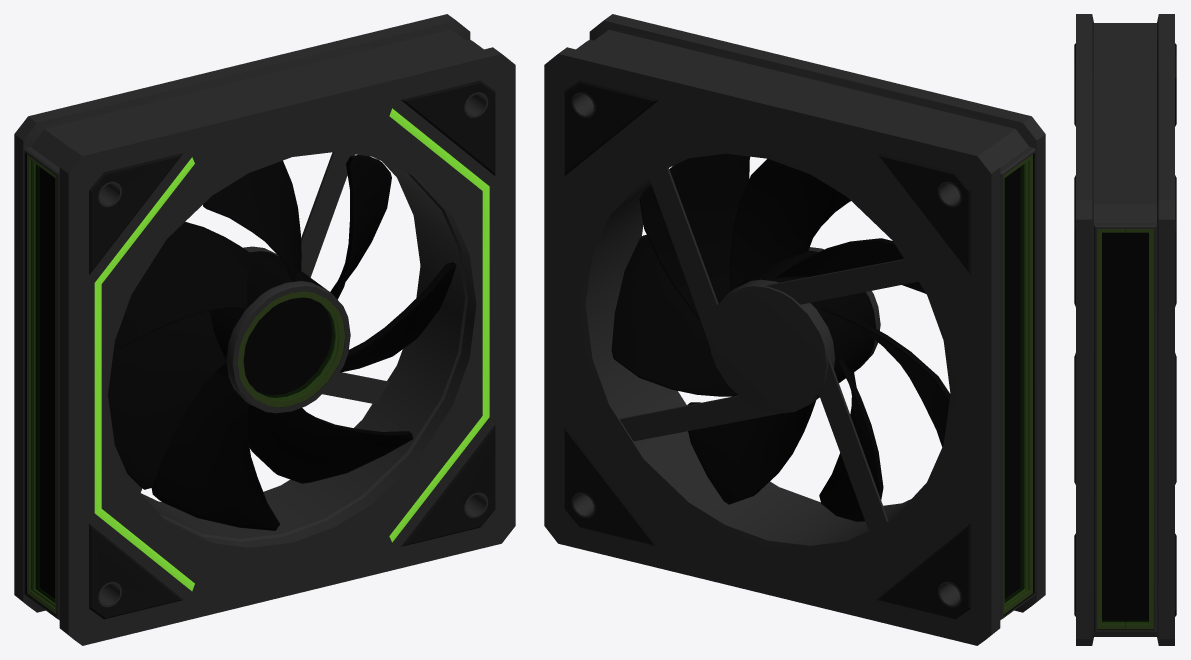
3 views of the same model, side by side, from view 1: azimuth 30°, elevation 25°; view 2: azimuth 150°, elevation 25°; view 3: azimuth 270°, elevation 25° (orthographic). The views are drawn at different scales.
Visible parts, largest first — view 1: casefan_Plastic_0, fanblades_Fans_0, casefan_softerplastic_0, inf_sides_FanCenterMirror_0, inf_mirror_FanCenterMirror_0, casefan_Inf_Mirror_inside_color_2_0, inf_sides_Sides_0, fanblades_Sides_0, fanblades_Plastic_0, inf_sides_Inf_Mirror_inside_color_1_0, inf_sides_Inf_Mirror_inside_color_2_0, inf_mirror_Inf_Mirror_inside_color_1_0 (+1 smaller); view 2: casefan_Plastic_0, fanblades_Fans_0, casefan_softerplastic_0, inf_sides_FanCenterMirror_0, inf_sides_Sides_0, inf_sides_Inf_Mirror_inside_color_1_0, inf_sides_Inf_Mirror_inside_color_2_0, inf_sides_Inf_Mirror_inside_color_3_0; view 3: casefan_Plastic_0, inf_sides_FanCenterMirror_0, inf_sides_Sides_0, inf_sides_Inf_Mirror_inside_color_1_0, casefan_softerplastic_0.
Part boxes in pixels (x1,y1,x2,y2): casefan_Plastic_0: (14,14,515,645); fanblades_Fans_0: (108,155,456,530); casefan_softerplastic_0: (89,80,495,619); inf_sides_FanCenterMirror_0: (25,153,56,615); inf_mirror_FanCenterMirror_0: (238,291,345,407); casefan_Inf_Mirror_inside_color_2_0: (94,108,489,591); inf_sides_Sides_0: (25,154,55,615); fanblades_Sides_0: (244,298,331,395); fanblades_Plastic_0: (226,281,350,413); inf_sides_Inf_Mirror_inside_color_1_0: (27,155,55,613); inf_sides_Inf_Mirror_inside_color_2_0: (31,161,54,606); inf_mirror_Inf_Mirror_inside_color_1_0: (238,292,344,407); casefan_Plastic_0: (544,14,1045,645); fanblades_Fans_0: (611,153,950,521); casefan_softerplastic_0: (564,80,970,619); inf_sides_FanCenterMirror_0: (1003,153,1034,615); inf_sides_Sides_0: (1004,154,1034,615); inf_sides_Inf_Mirror_inside_color_1_0: (1004,155,1032,613); inf_sides_Inf_Mirror_inside_color_2_0: (1005,161,1028,606); inf_sides_Inf_Mirror_inside_color_3_0: (1005,165,1023,602); casefan_Plastic_0: (1076,14,1174,645); inf_sides_FanCenterMirror_0: (1097,229,1153,629); inf_sides_Sides_0: (1098,233,1152,629); inf_sides_Inf_Mirror_inside_color_1_0: (1097,229,1153,628); casefan_softerplastic_0: (1074,43,1176,616).
Size of the model in its own units: 0.1163 by 0.1215 by 0.0254.
